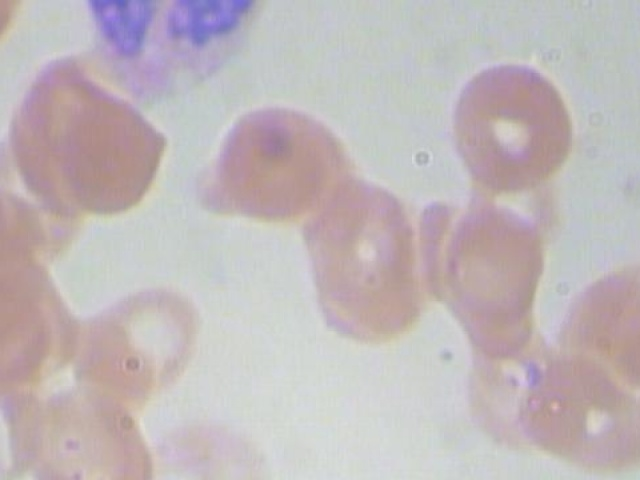RBC: (305, 165, 430, 353), (443, 52, 582, 207), (208, 85, 347, 239), (427, 190, 555, 337), (71, 262, 199, 409), (51, 89, 179, 235), (509, 339, 640, 480), (9, 372, 169, 480), (561, 241, 640, 387), (140, 402, 282, 480), (0, 192, 55, 346), (0, 360, 42, 480), (0, 0, 38, 64)
WBC: (71, 0, 287, 105)
